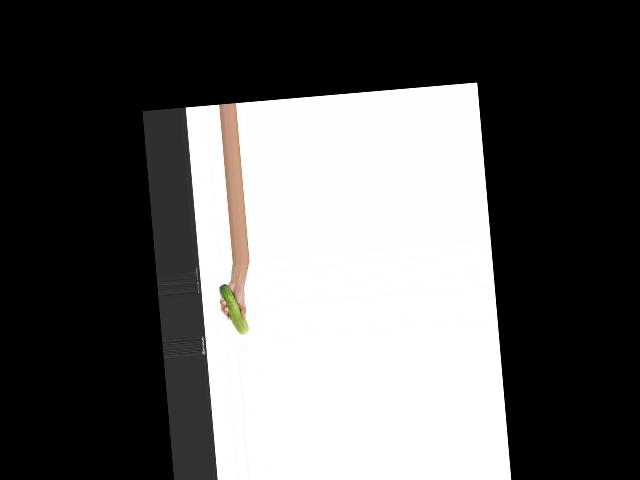cucumber: (218, 282, 249, 335)
